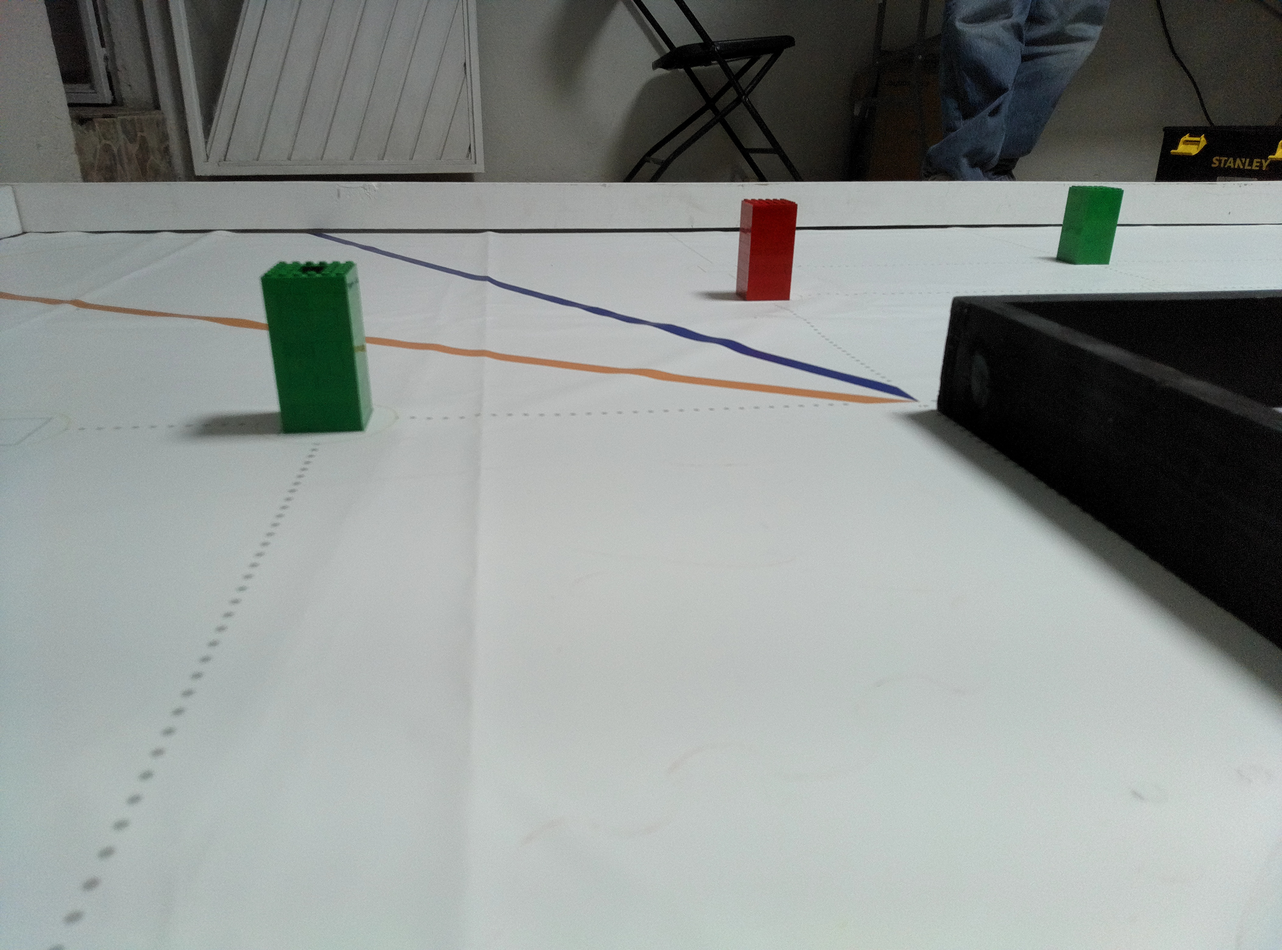greenbox: (257, 257, 379, 434), (1054, 184, 1125, 268)
redbox: (734, 197, 800, 302)
